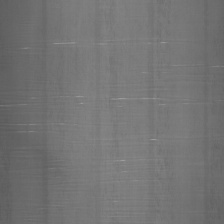waist_folding: (10, 24, 215, 178)
